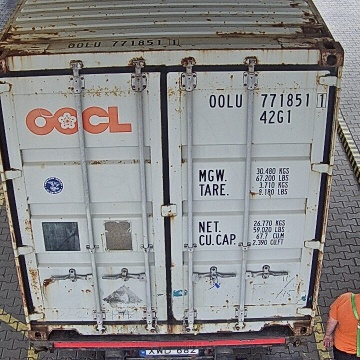serial_id: (209, 92, 327, 107)
